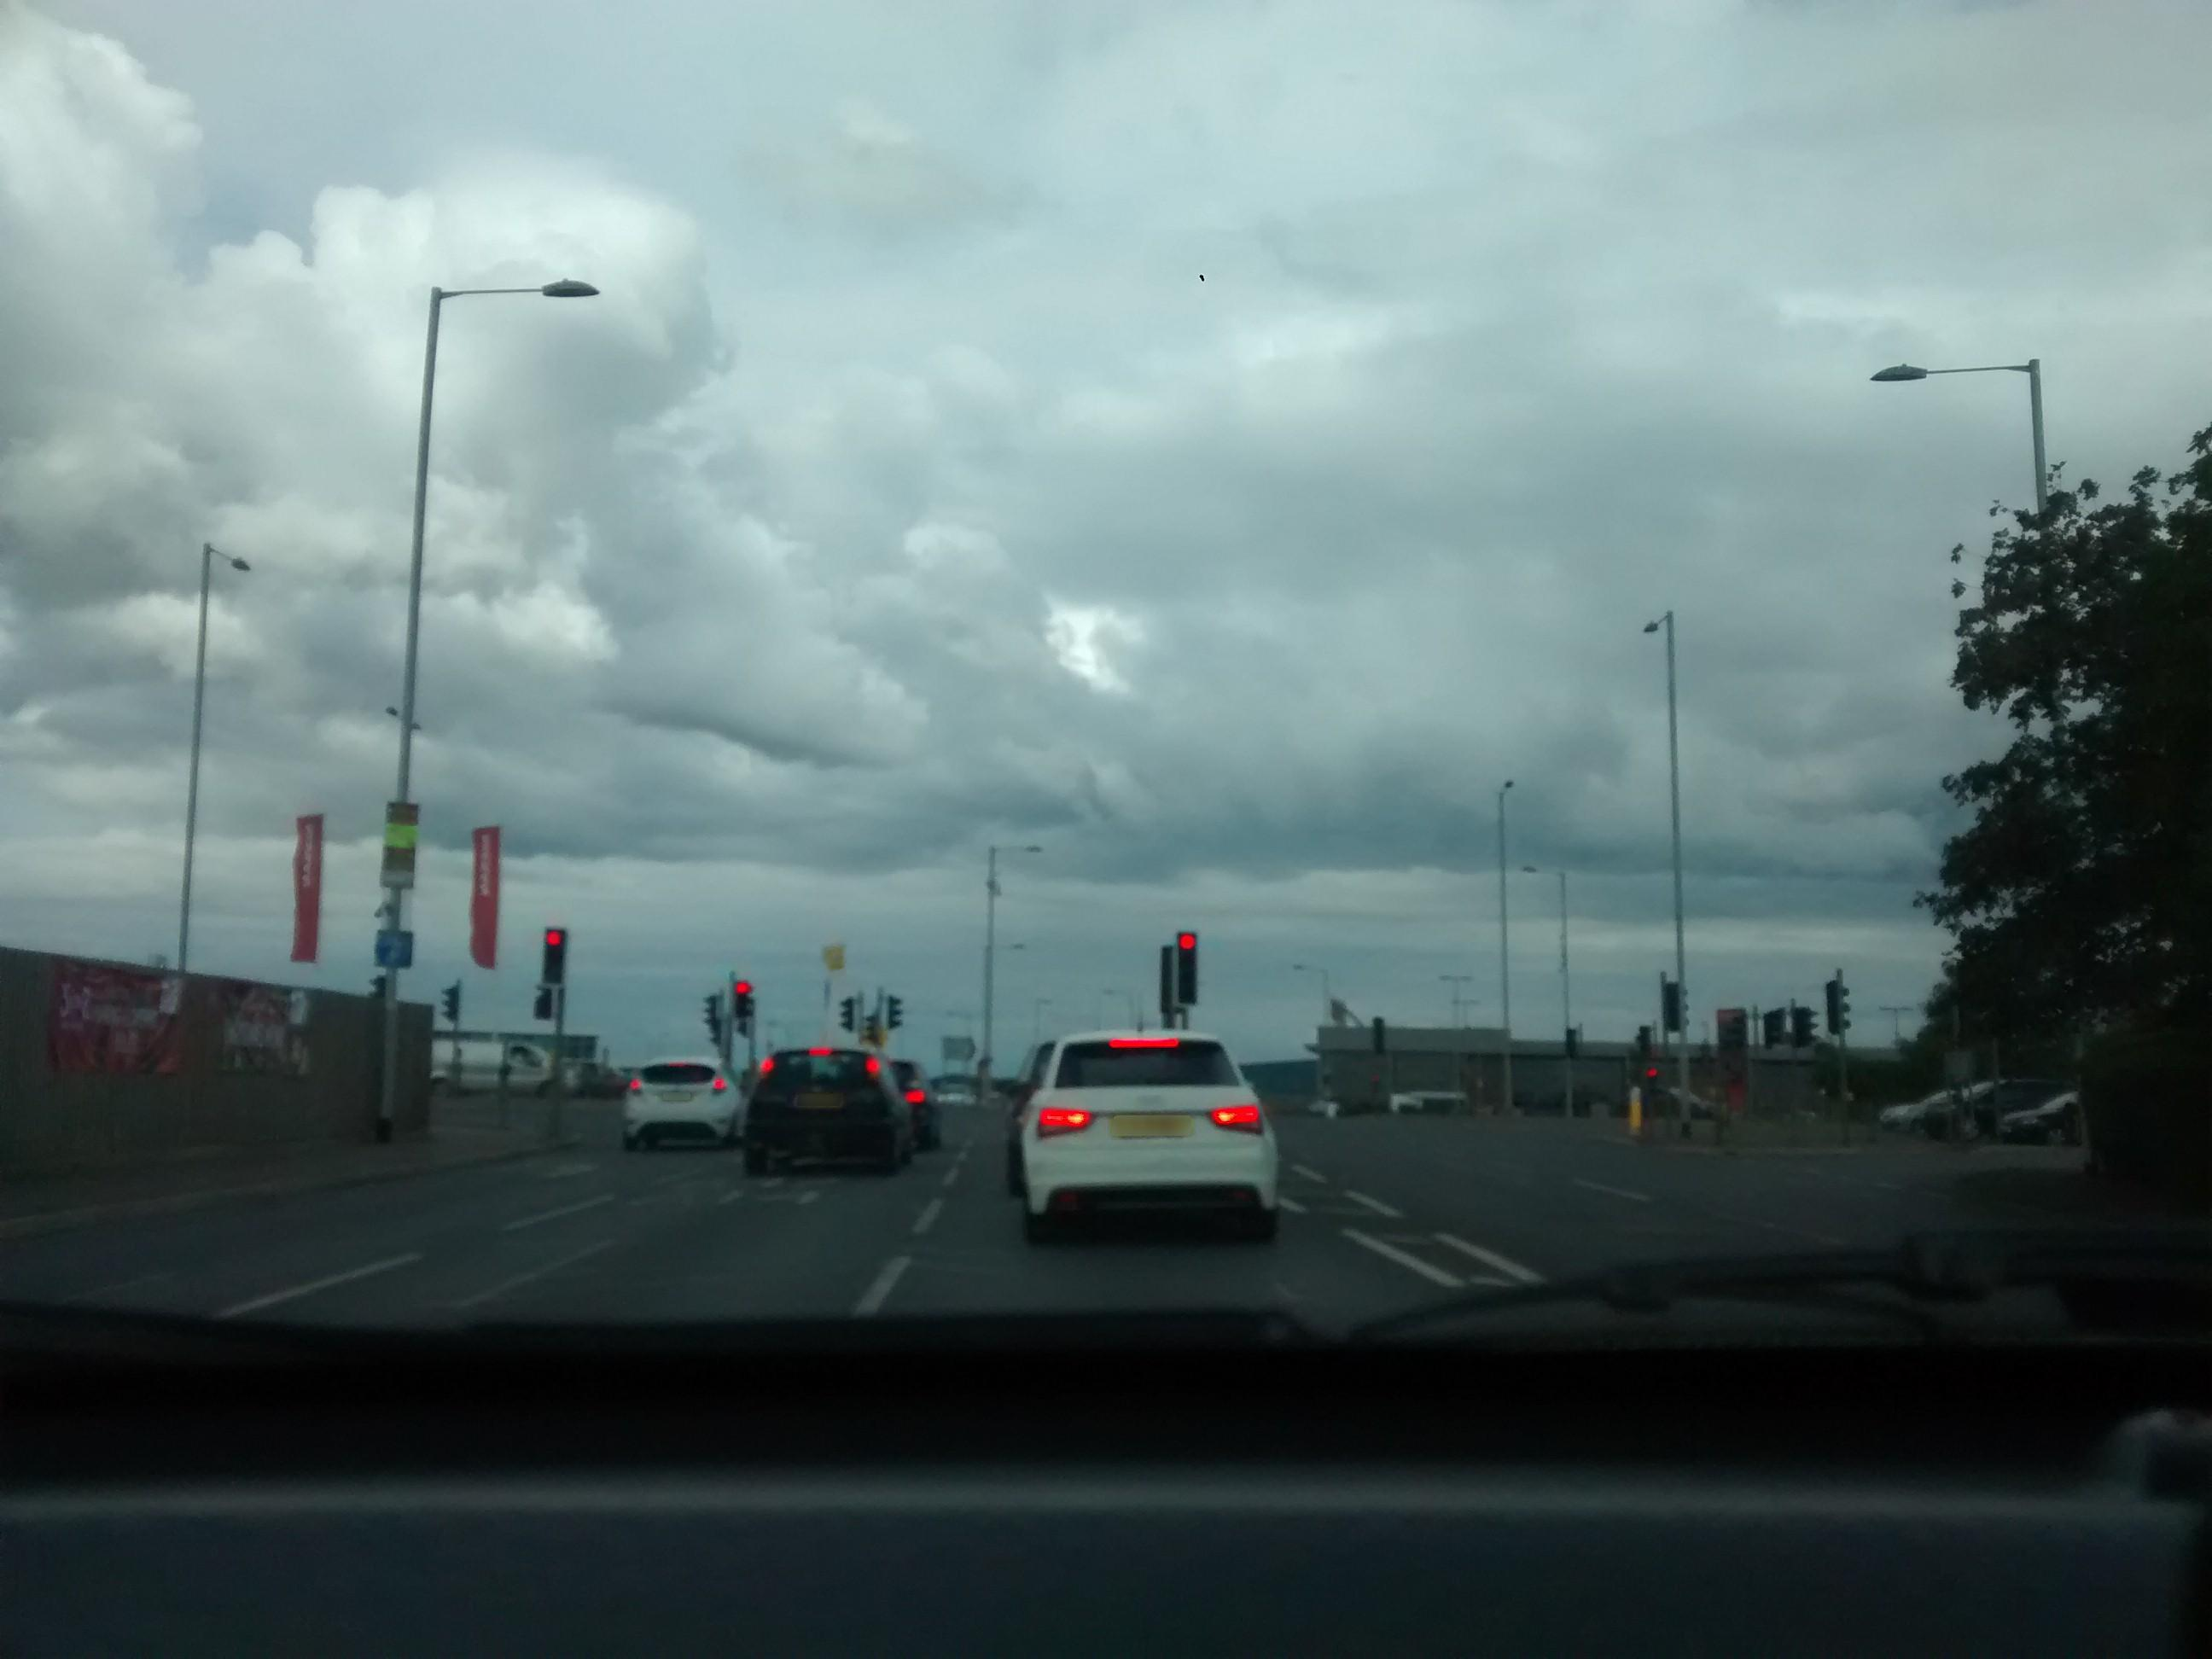vinyl banner: (47, 938, 190, 1082), (207, 950, 320, 1080)
